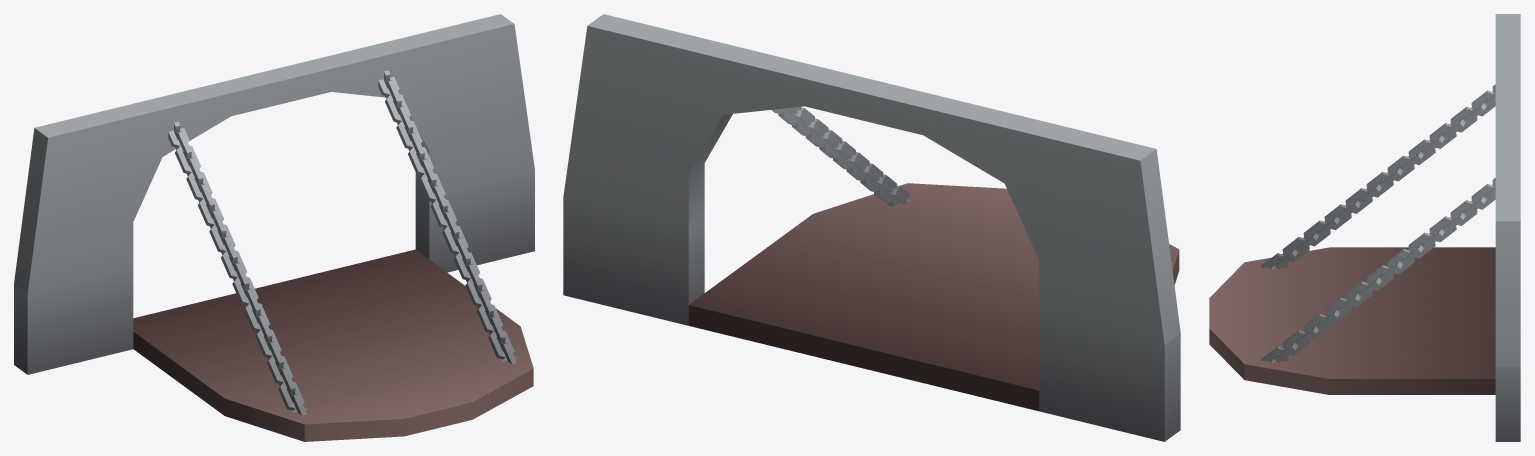
The model's file is SM_Gate.fbx.
3 renders of one model, left to right at view 1: azimuth 30°, elevation 25°; view 2: azimuth 150°, elevation 25°; view 3: azimuth 270°, elevation 25°, orthographic. The views are drawn at different scales.
Visible parts, largest first — view 1: SM_Gate_GEO; view 2: SM_Gate_GEO; view 3: SM_Gate_GEO.
Boxes of the visible parts, x1,y1,x2,y2 form: SM_Gate_GEO: [14, 14, 534, 441]; SM_Gate_GEO: [563, 14, 1180, 441]; SM_Gate_GEO: [1209, 14, 1520, 441].
Bounding box in the file's own units: 686 × 302 × 400.
